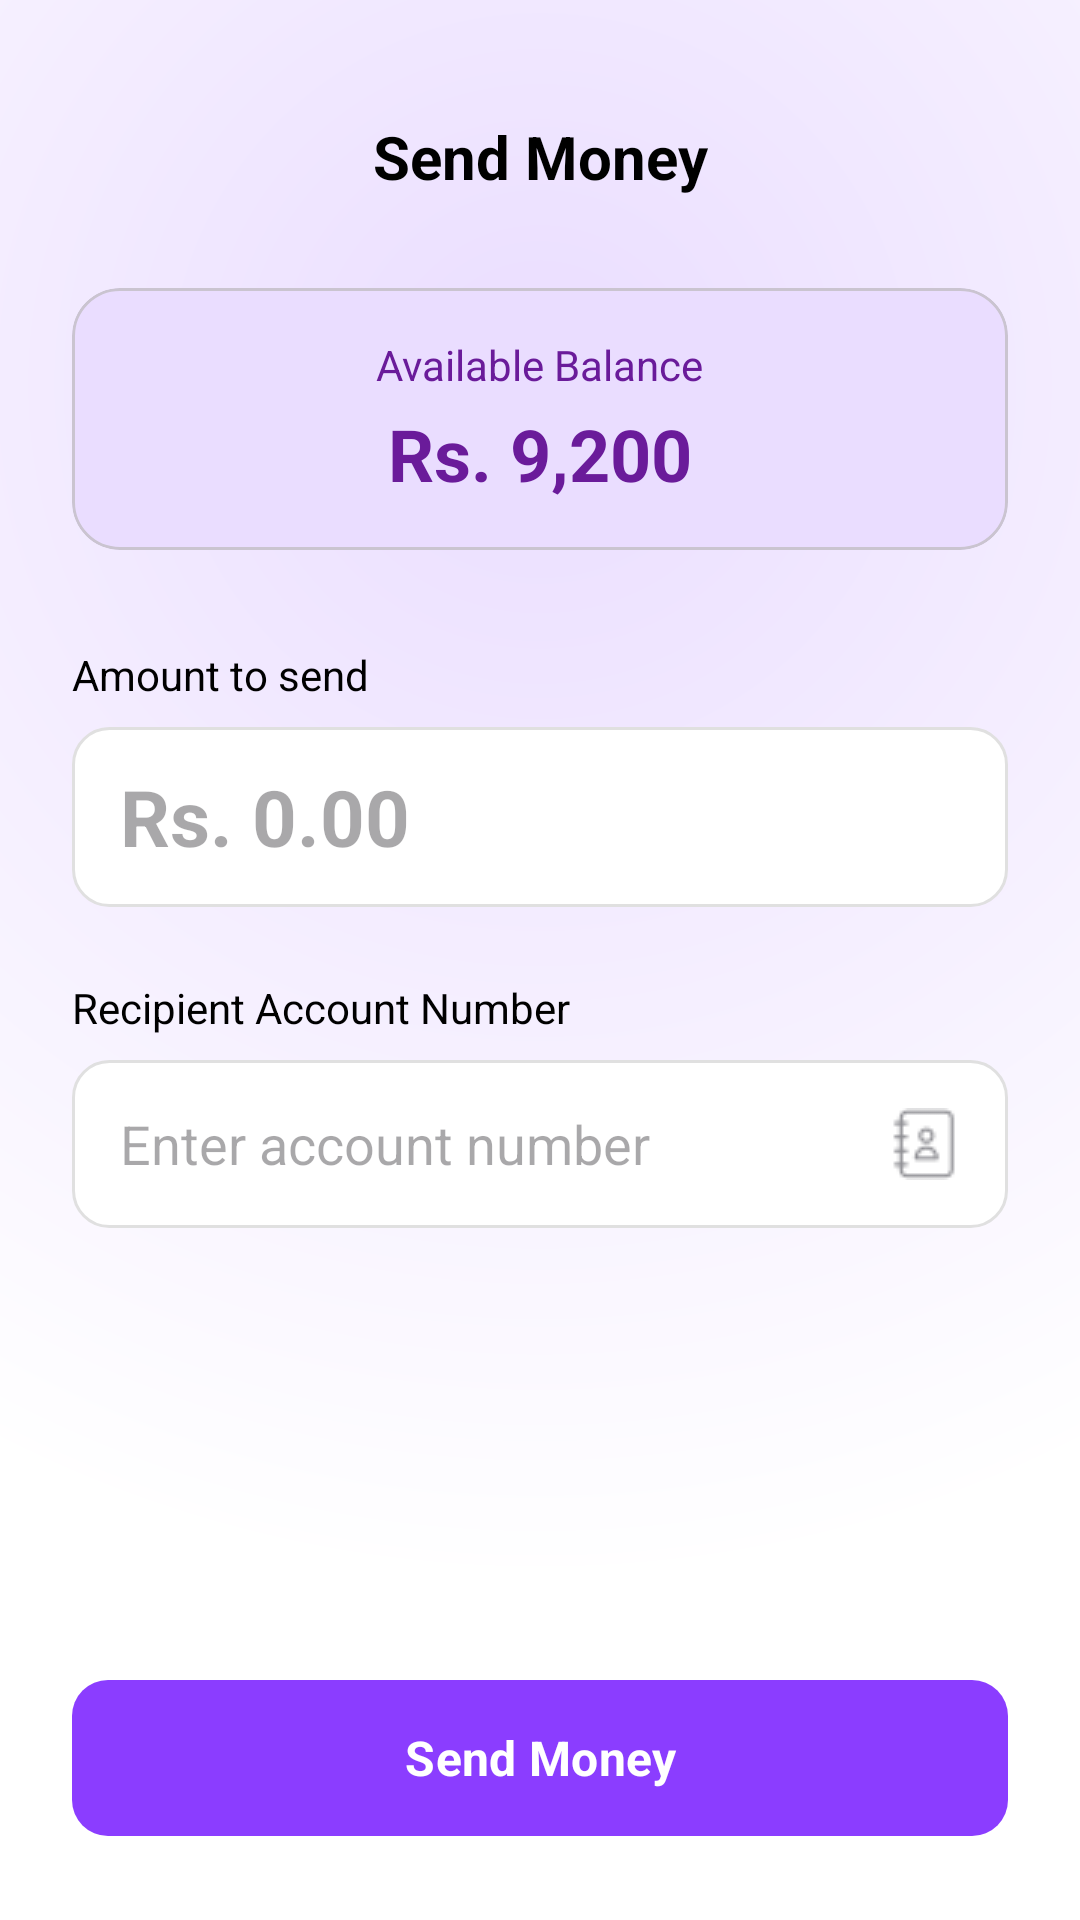

Icon bounding boxes for this 1080px x 1920px phone screenshot, format (x1=x1, y1=y1, x2=x2, y2=y2):
contact book: (x1=893, y1=1108, x2=955, y2=1178)
